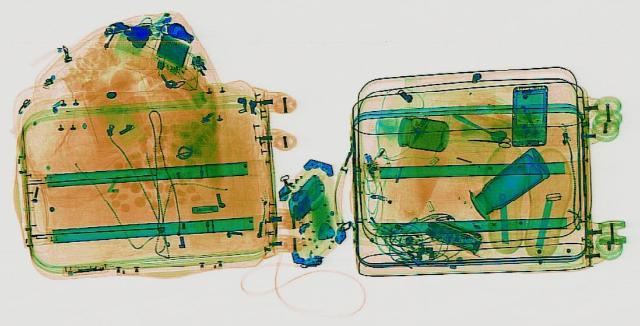Scissors: (466, 134, 512, 146)
